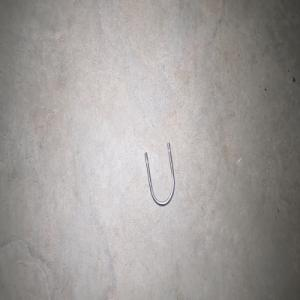ClampPart: (144, 141, 175, 207)
